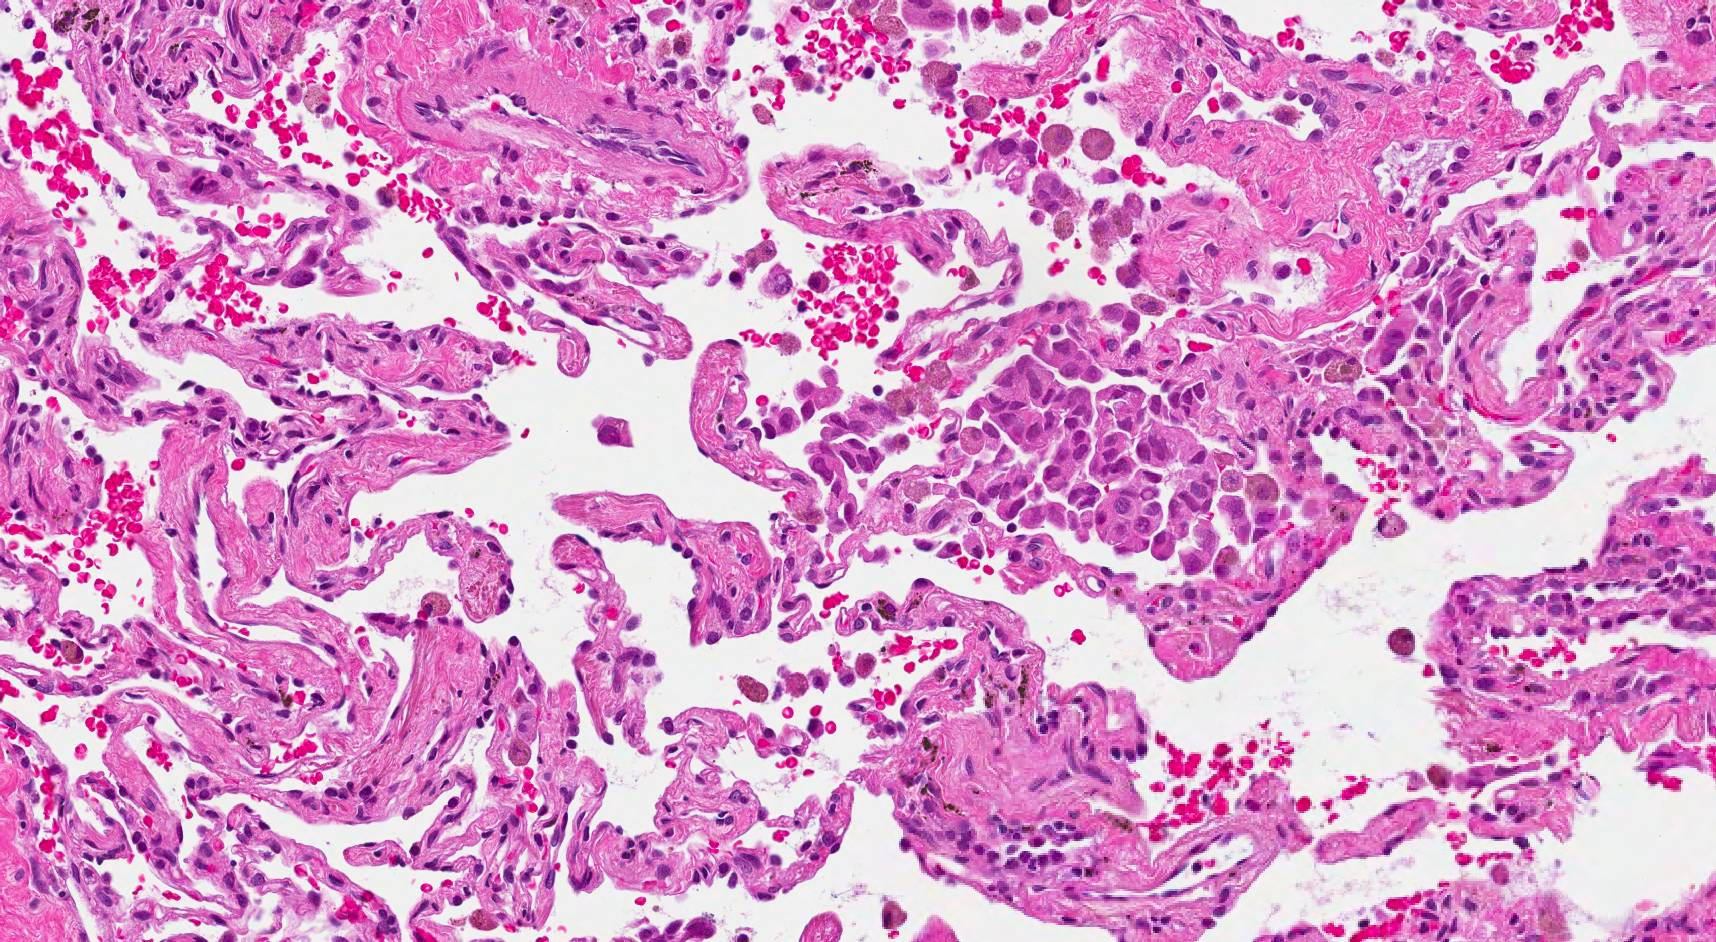stas: (751, 326, 1291, 585), (1365, 266, 1487, 382), (973, 129, 1046, 198), (280, 234, 324, 290), (590, 409, 638, 448)
